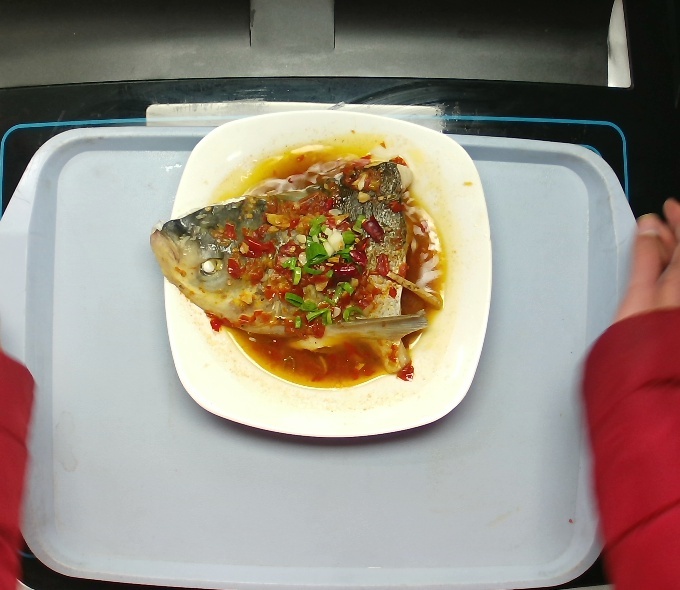wcq-DuoJiaoYuTou: (148, 127, 448, 400)
